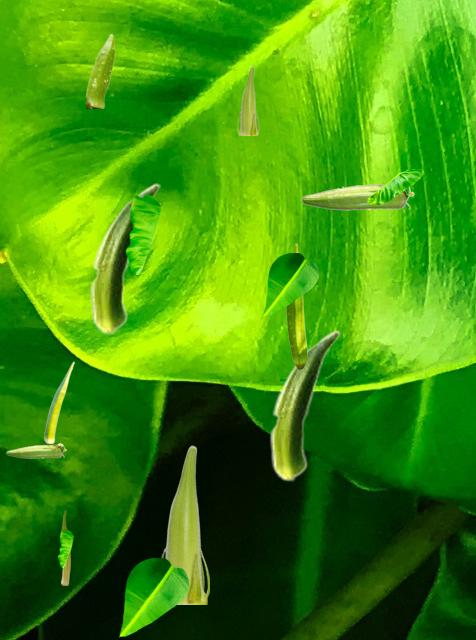okra: (269, 330, 339, 481), (89, 183, 159, 334), (161, 445, 208, 603), (301, 183, 413, 209), (286, 243, 307, 369), (44, 361, 73, 442), (86, 33, 114, 107), (236, 66, 258, 134), (6, 443, 65, 457), (61, 510, 69, 584)
